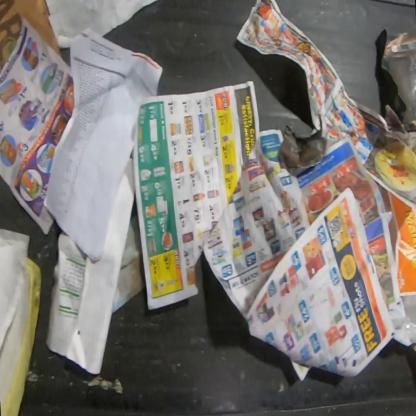cardboard: (0, 0, 62, 81)
soft_plastic: (402, 296, 416, 343)
